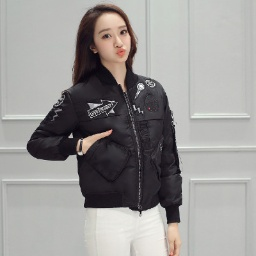face: (73, 3, 138, 84)
